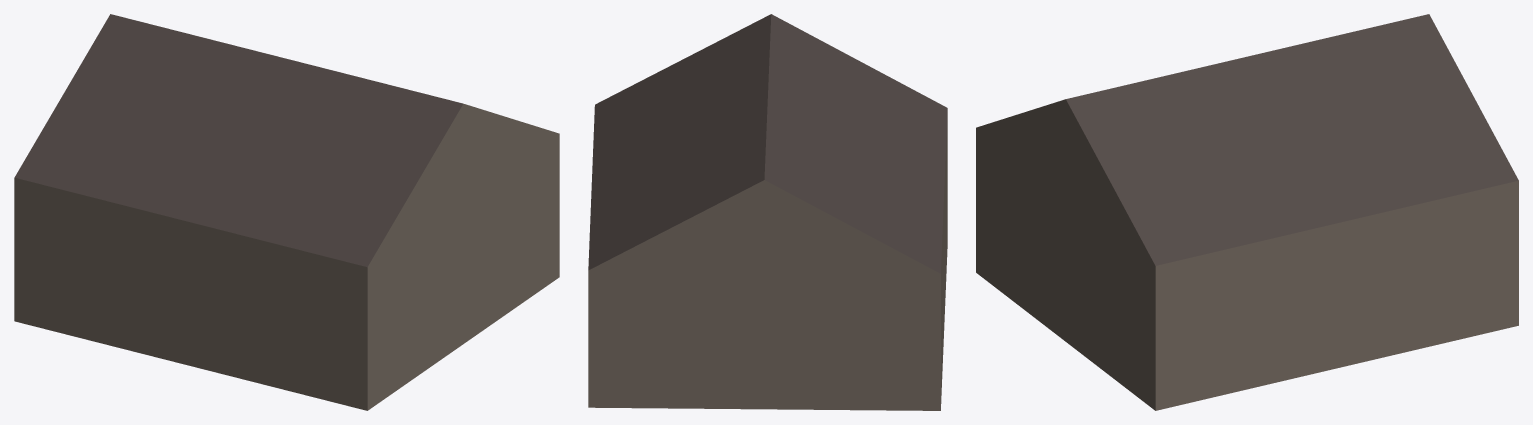
3 views of the same model, side by side, from view 1: azimuth 30°, elevation 25°; view 2: azimuth 150°, elevation 25°; view 3: azimuth 270°, elevation 25° (orthographic). The views are drawn at different scales.
Visible parts, largest first — view 1: HP-w859088449; view 2: HP-w859088449; view 3: HP-w859088449.
Part boxes in pixels (box(x1,y1,x2,y2)): HP-w859088449: box(14, 14, 559, 410); HP-w859088449: box(588, 14, 947, 410); HP-w859088449: box(976, 14, 1518, 410).
Bounding box in the file's own units: 19.83 × 10.04 × 20.36.
